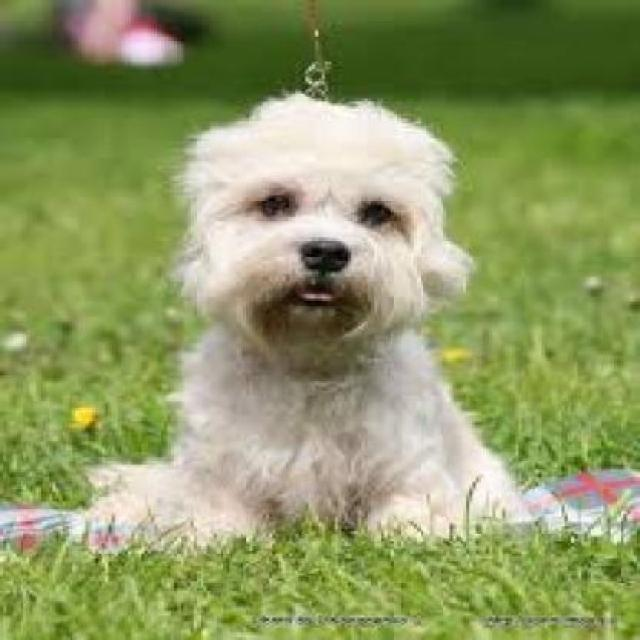animals: (59, 75, 550, 559)
